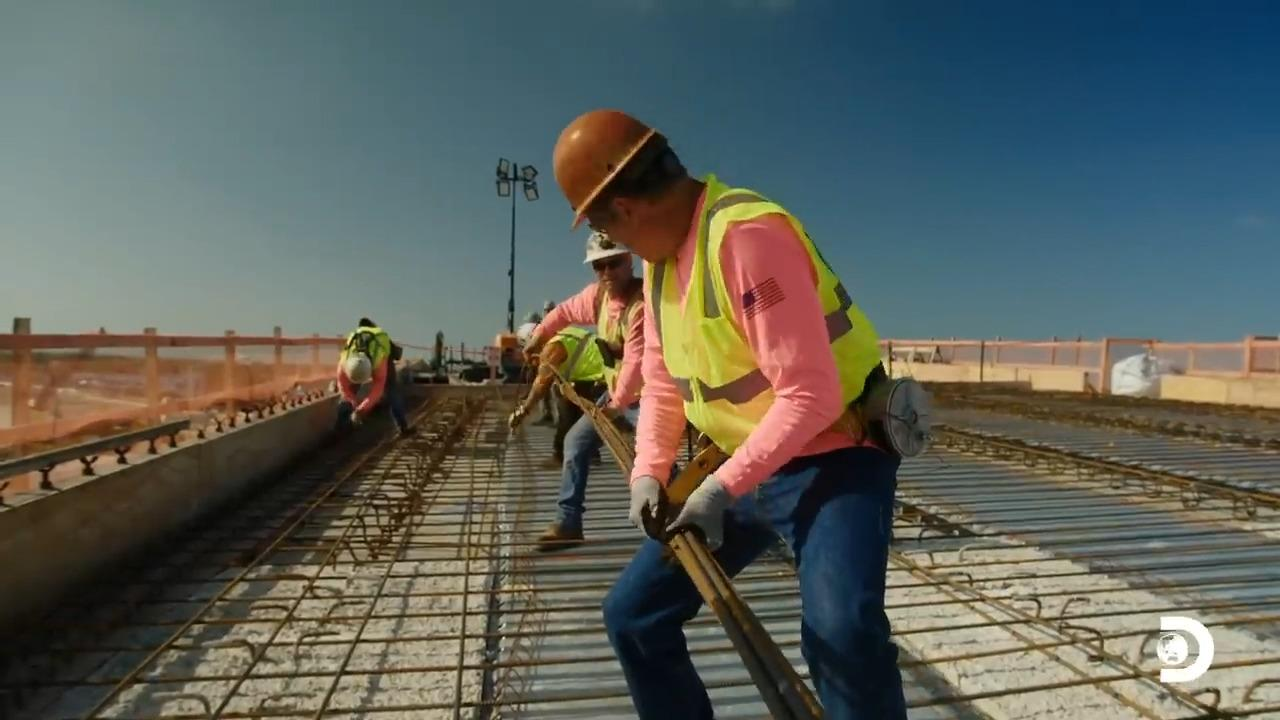Gloves: (630, 473, 690, 543), (678, 473, 732, 541), (521, 340, 546, 369)
Helmet: (552, 108, 656, 231), (582, 231, 630, 264), (342, 351, 373, 384)
Person: (551, 108, 911, 719), (508, 230, 645, 548), (334, 317, 417, 437)
Safety Boot: (539, 527, 585, 549)
Safety Vest: (674, 229, 871, 418), (600, 298, 649, 388), (352, 328, 387, 355)
